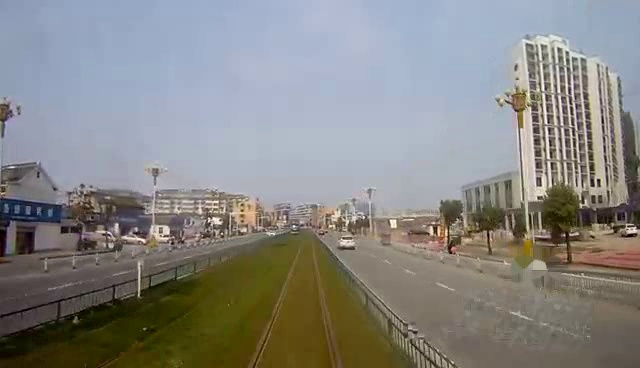car: (119, 232, 150, 248), (332, 232, 358, 250)
